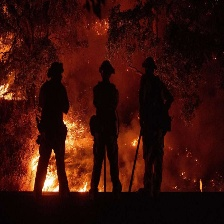fire: (26, 149, 68, 194), (61, 113, 86, 147), (1, 77, 17, 106), (128, 135, 143, 153), (75, 181, 96, 193)
